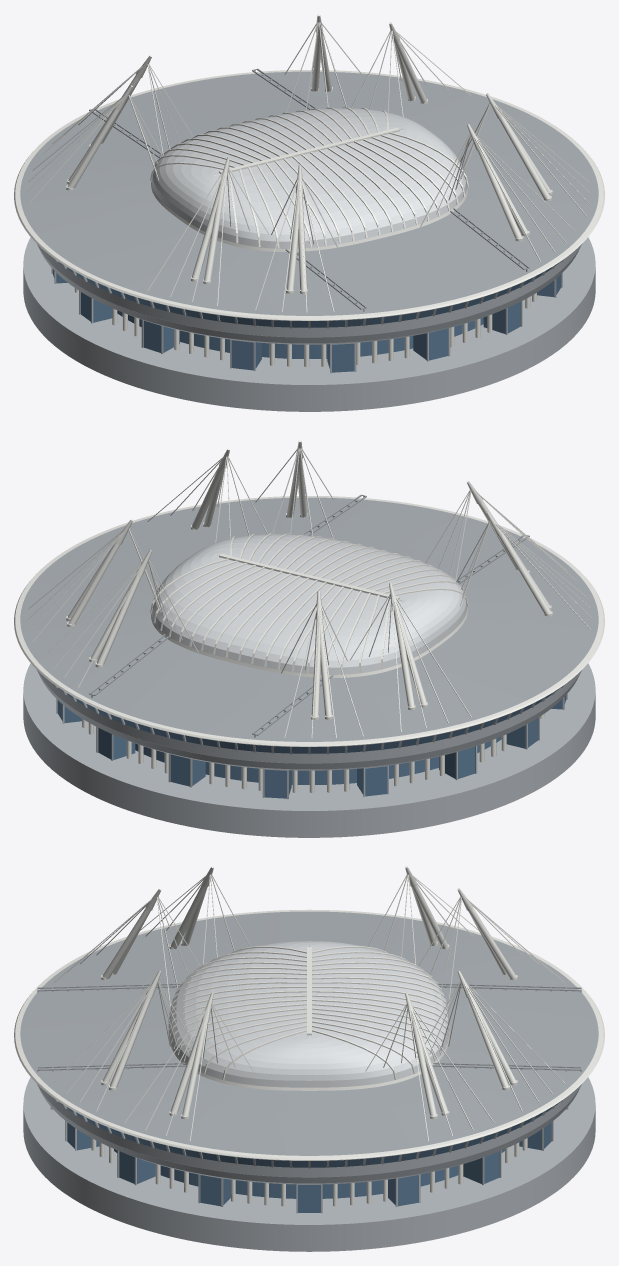
Rendered from saint-petersburg-krestovsky.detail.glb.
3 views of the same model, one above another, from view 1: azimuth 30°, elevation 25°; view 2: azimuth 150°, elevation 25°; view 3: azimuth 270°, elevation 25° (orthographic).
Parts seen in each view (by area): view 1: Krestovsky Stadium (Gazprom Arena); view 2: Krestovsky Stadium (Gazprom Arena); view 3: Krestovsky Stadium (Gazprom Arena).
Part boxes in pixels (x1,y1,x2,y2): Krestovsky Stadium (Gazprom Arena): [14, 14, 604, 411]; Krestovsky Stadium (Gazprom Arena): [14, 440, 604, 837]; Krestovsky Stadium (Gazprom Arena): [14, 866, 604, 1251].
Size of the model in its own units: 289 by 109 by 289.
